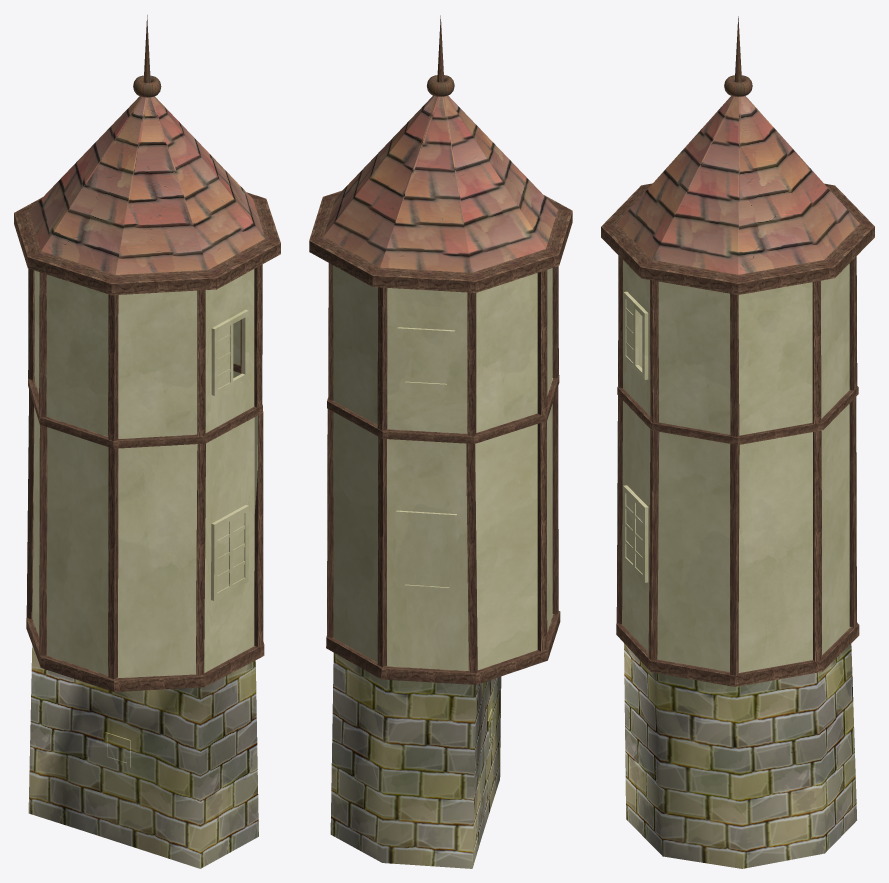
The model's file is tower_001 (1).fbx.
3 renders of one model, left to right at view 1: azimuth 30°, elevation 25°; view 2: azimuth 150°, elevation 25°; view 3: azimuth 270°, elevation 25°, orthographic.
Parts seen in each view (by area): view 1: Cylinder002; view 2: Cylinder002; view 3: Cylinder002.
Boxes of the visible parts, box(x1,y1,x2,y2) form: Cylinder002: box(14, 15, 280, 868); Cylinder002: box(309, 15, 572, 868); Cylinder002: box(601, 16, 874, 868).
Size of the model in its own units: 185 by 601 by 185.
